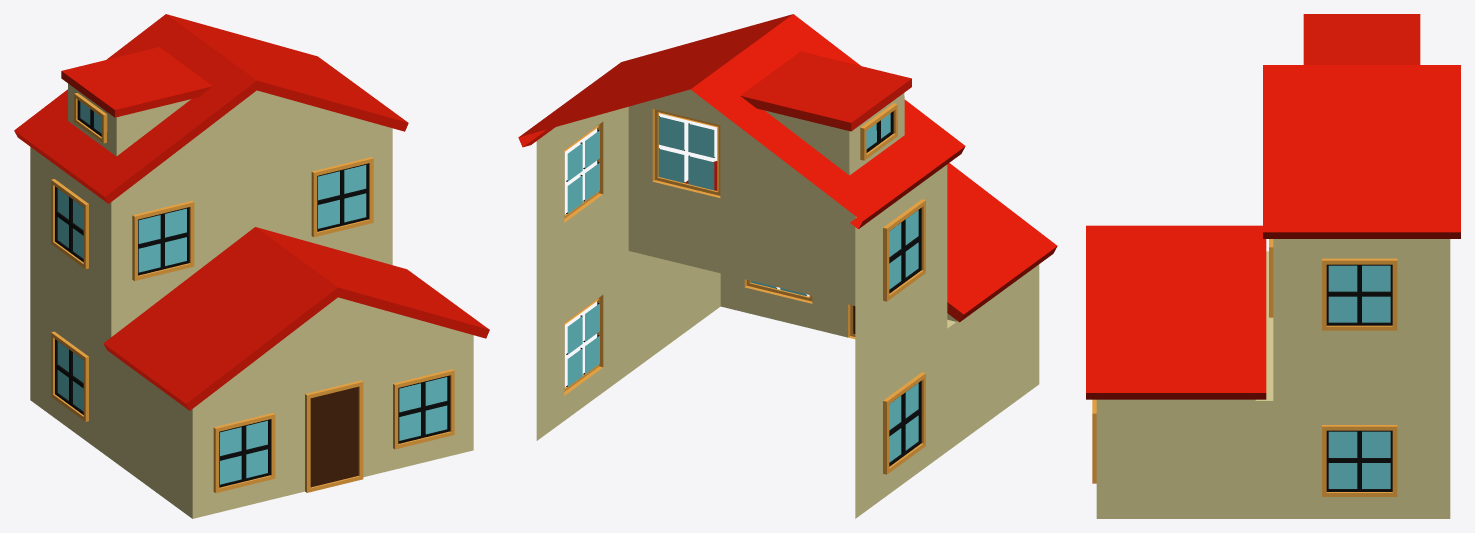
Rendered from 06-Sixth-House-01.fbx.
The picture shows the model from 3 angles, left to right: view 1: azimuth 30°, elevation 25°; view 2: azimuth 150°, elevation 25°; view 3: azimuth 270°, elevation 25°; orthographic projection. The views are drawn at different scales.
Parts seen in each view (by area): view 1: House.Mesh.Sixth; view 2: House.Mesh.Sixth; view 3: House.Mesh.Sixth.
Boxes of the visible parts, x1,y1,x2,y2 form: House.Mesh.Sixth: (14, 14, 489, 518); House.Mesh.Sixth: (518, 14, 1057, 518); House.Mesh.Sixth: (1086, 14, 1460, 518).
Bounding box in the file's own units: 4.32 × 4.73 × 4.24.
